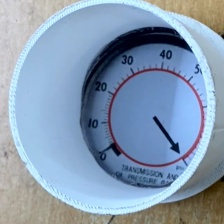gauge: (83, 42, 202, 189)
